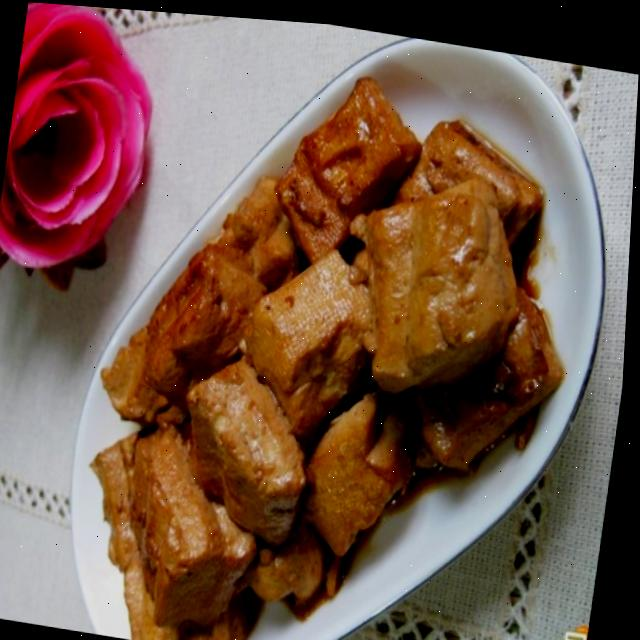豆腐料理: (52, 5, 621, 640)
